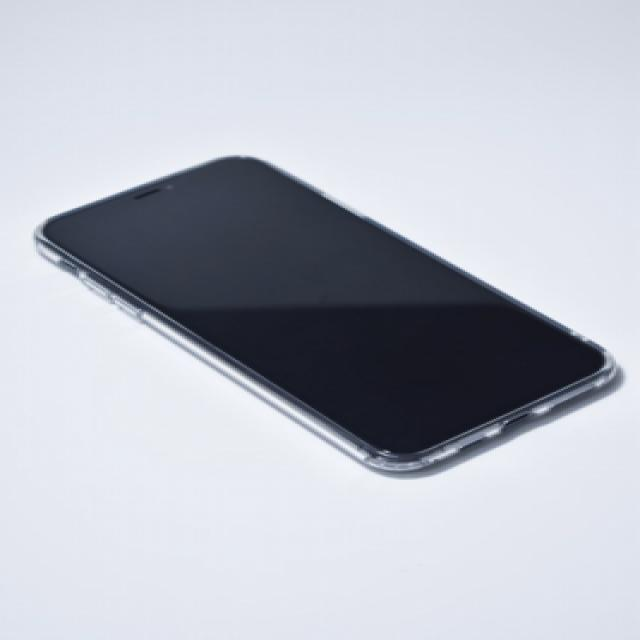cellphone: (31, 152, 621, 475)
